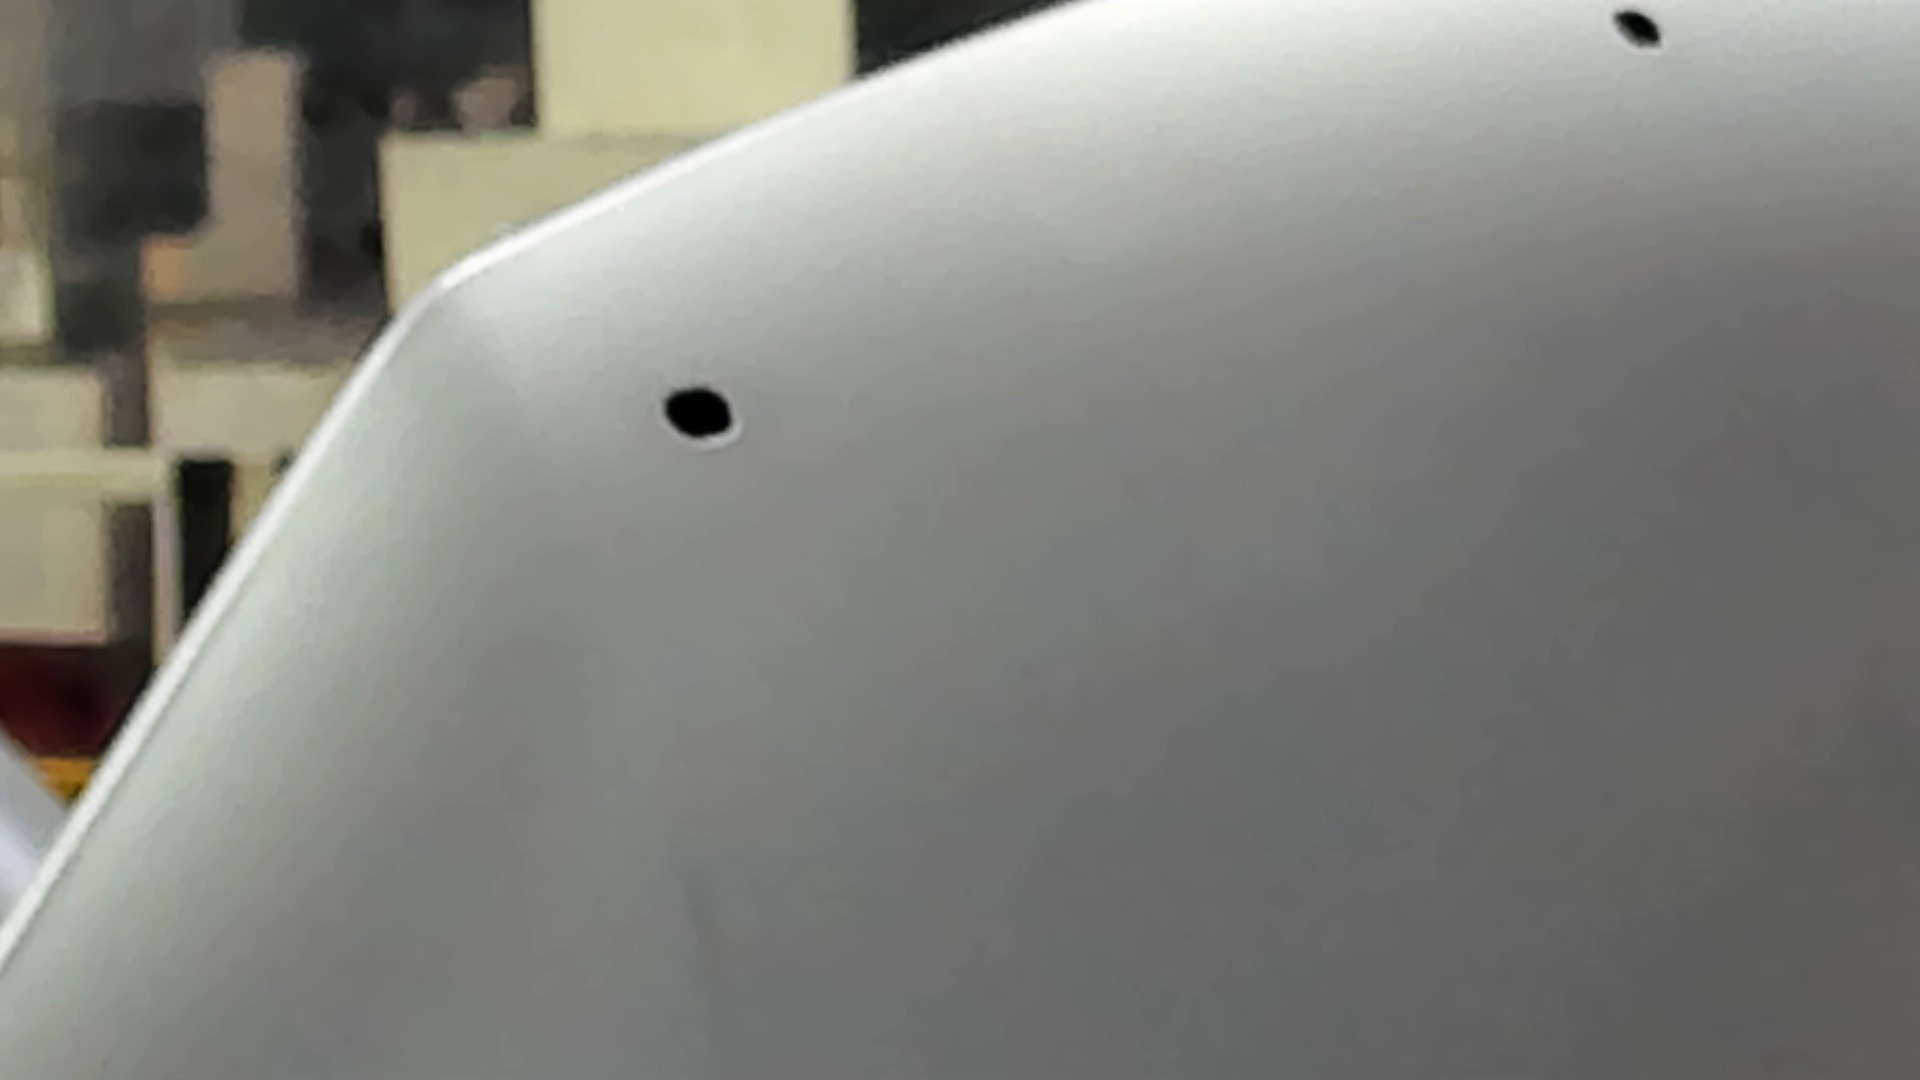amorfo: (659, 381, 742, 454), (1607, 1, 1668, 55)
